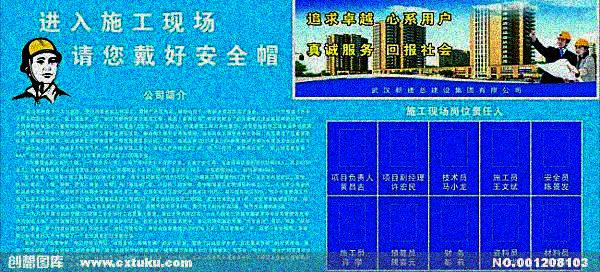helmet: (554, 30, 570, 47), (574, 37, 589, 55)
